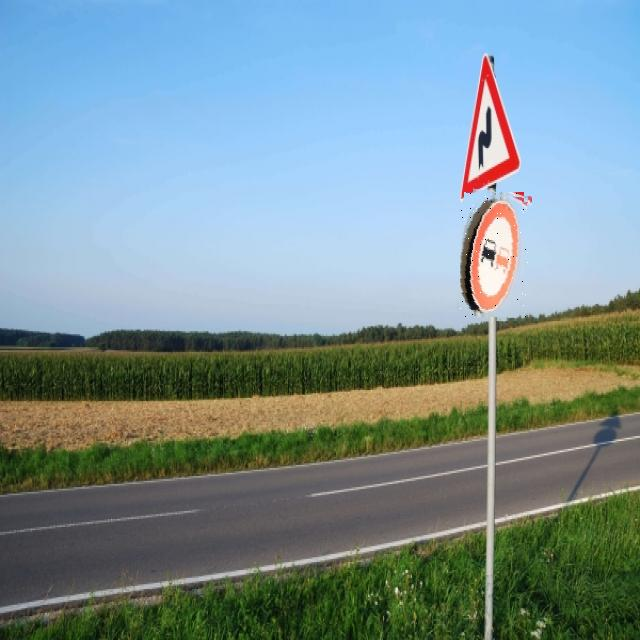no overtaking: (460, 190, 528, 317)
